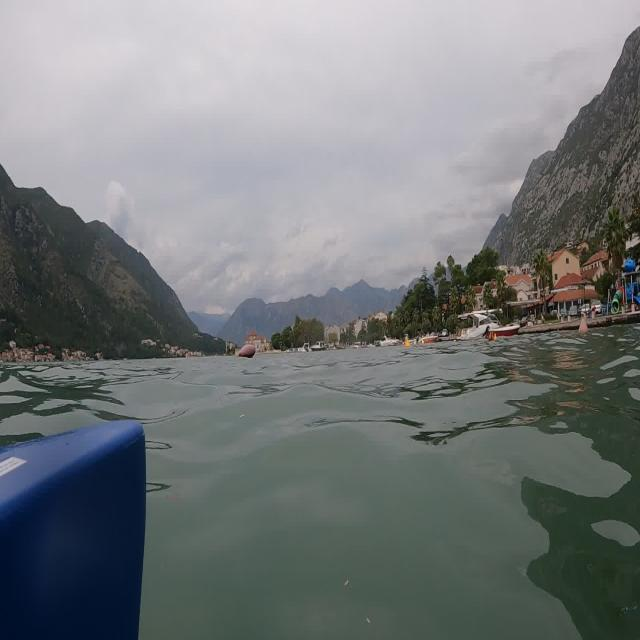buoy: (235, 339, 259, 360), (576, 310, 590, 339), (404, 336, 413, 350)
